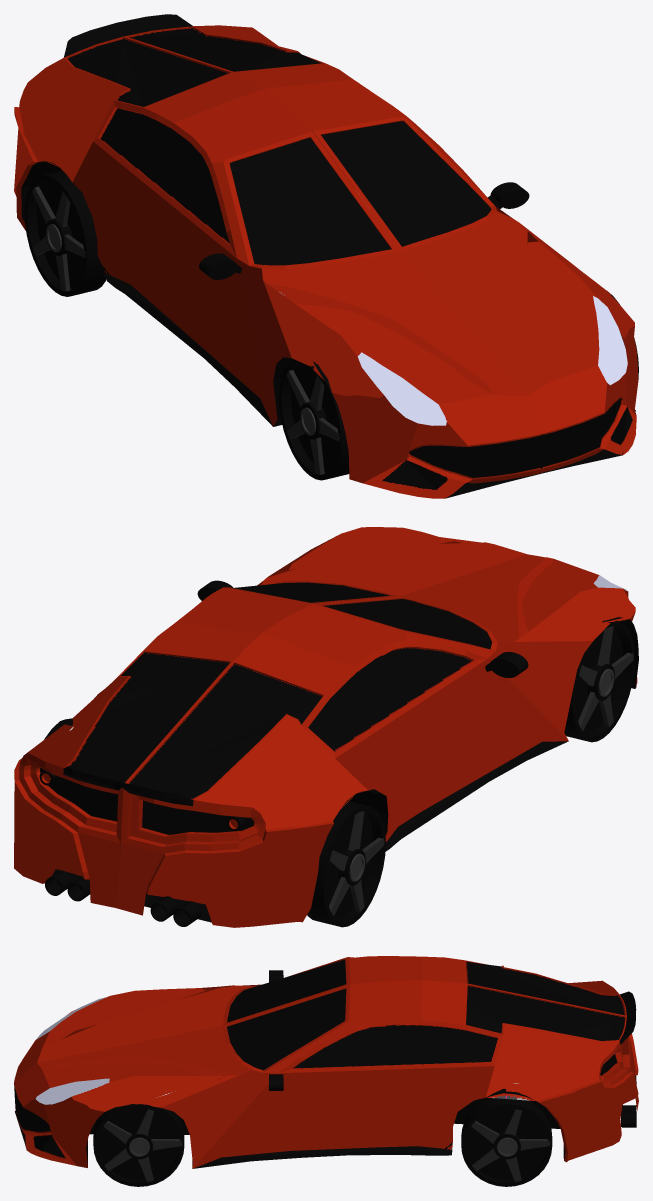
The model's file is ferrari1w_bumper.fbx.
3 renders of one model, top to bottom at view 1: azimuth 30°, elevation 25°; view 2: azimuth 150°, elevation 25°; view 3: azimuth 270°, elevation 25°, orthographic. The views are drawn at different scales.
Parts seen in each view (by area): view 1: CarBody, R_R_W, F_R_W; view 2: CarBody, R_R_W, F_R_W; view 3: CarBody, R_L_W, F_L_W.
Part boxes in pixels (x1,y1,x2,y2): CarBody: (14,14,638,498); R_R_W: (24,170,106,296); F_R_W: (279,359,349,480); CarBody: (14,527,638,927); R_R_W: (307,801,385,927); F_R_W: (564,621,634,742); CarBody: (14,956,638,1168); R_L_W: (461,1098,552,1186); F_L_W: (93,1104,184,1186).
Size of the model in its own units: 3749 by 2347 by 8658.
